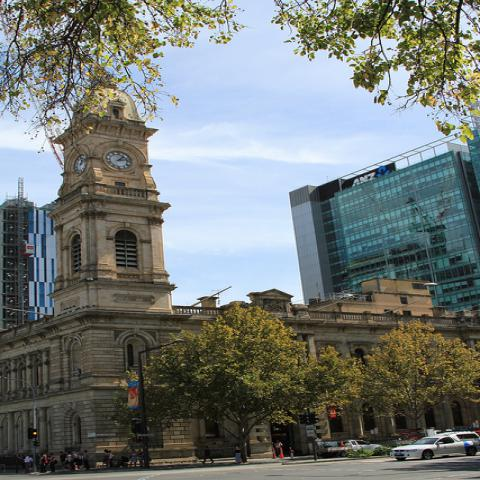car: (390, 436, 478, 460), (315, 440, 382, 458)
